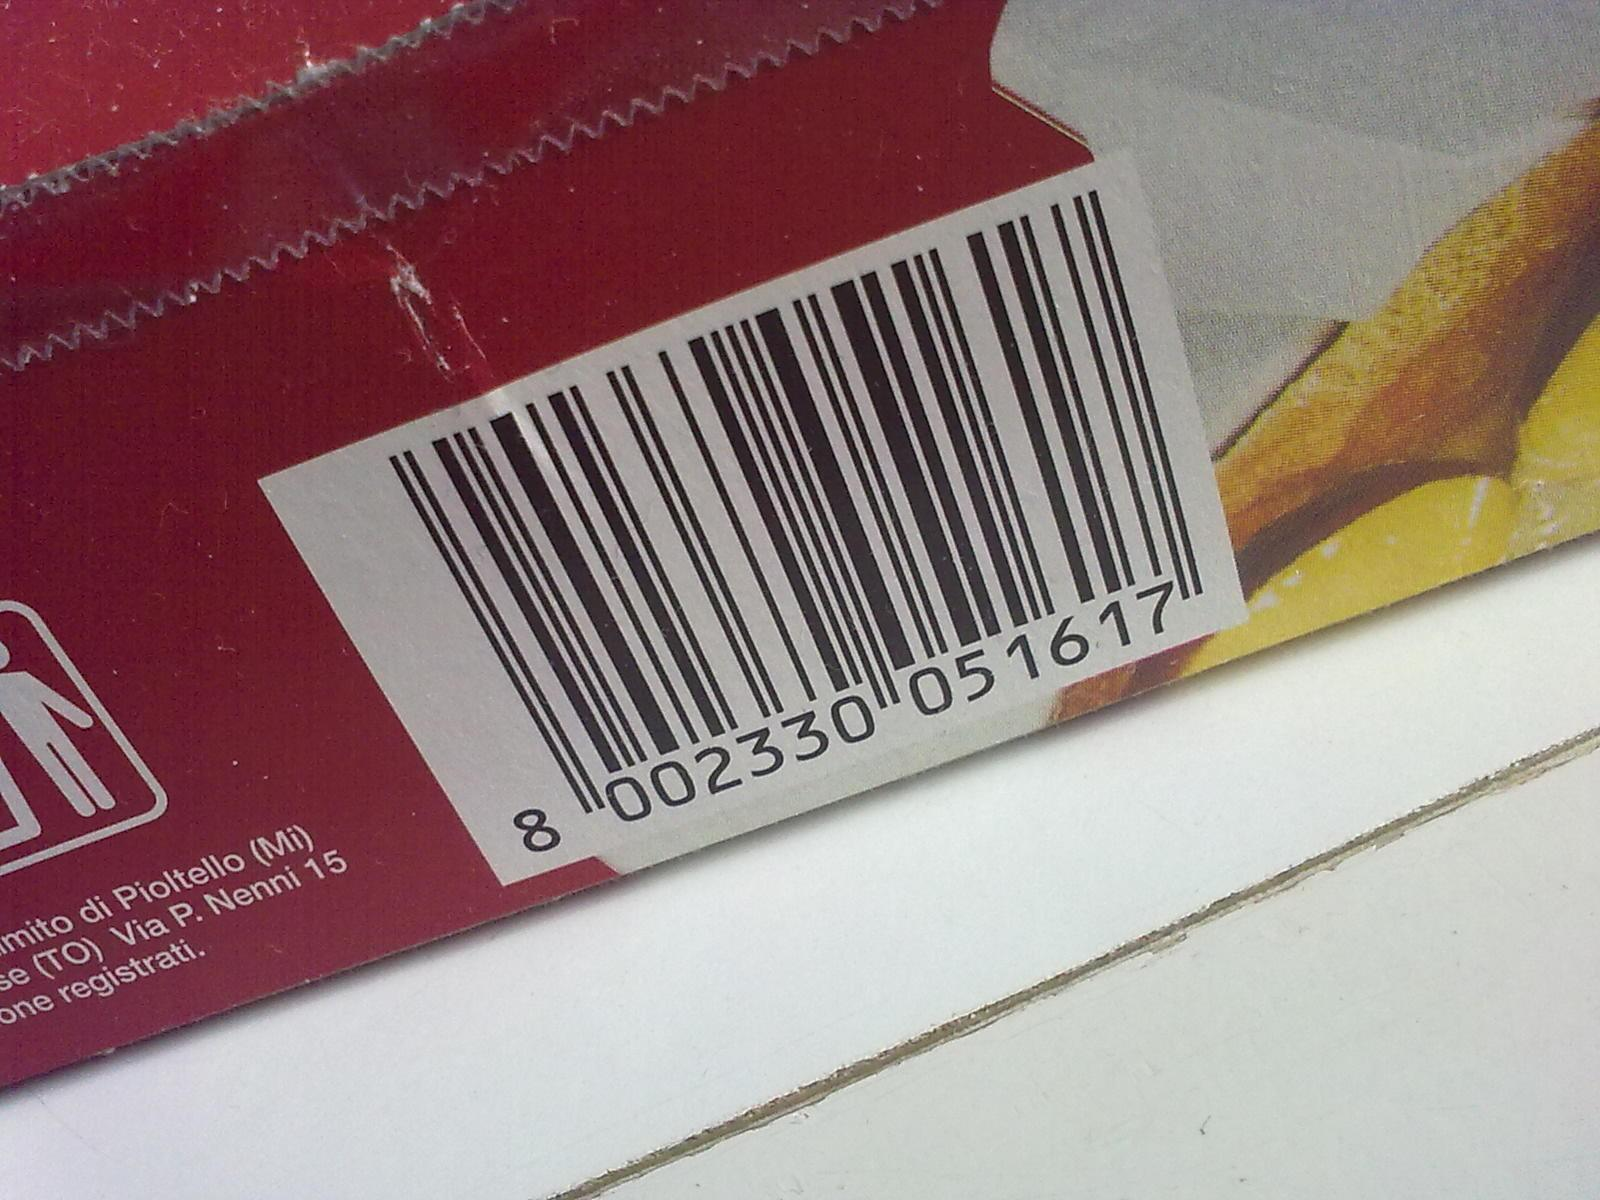barcode: (254, 146, 1249, 885)
